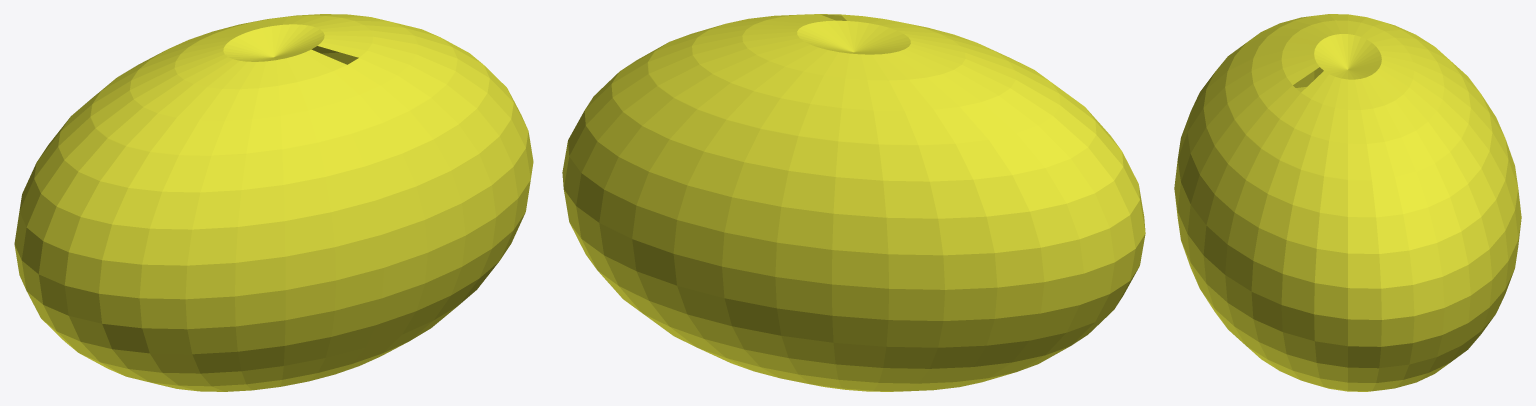
File: bean.glb
The picture shows the model from 3 angles, left to right: view 1: azimuth 30°, elevation 25°; view 2: azimuth 150°, elevation 25°; view 3: azimuth 270°, elevation 25°; orthographic projection. The views are drawn at different scales.
Parts seen in each view (by area): view 1: Sphere; view 2: Sphere; view 3: Sphere.
Part boxes in pixels (x1,y1,x2,y2): Sphere: [14, 14, 533, 391]; Sphere: [562, 14, 1145, 391]; Sphere: [1174, 14, 1521, 391].
Bounding box in the file's own units: 0.0454 × 0.0276 × 0.0294.
